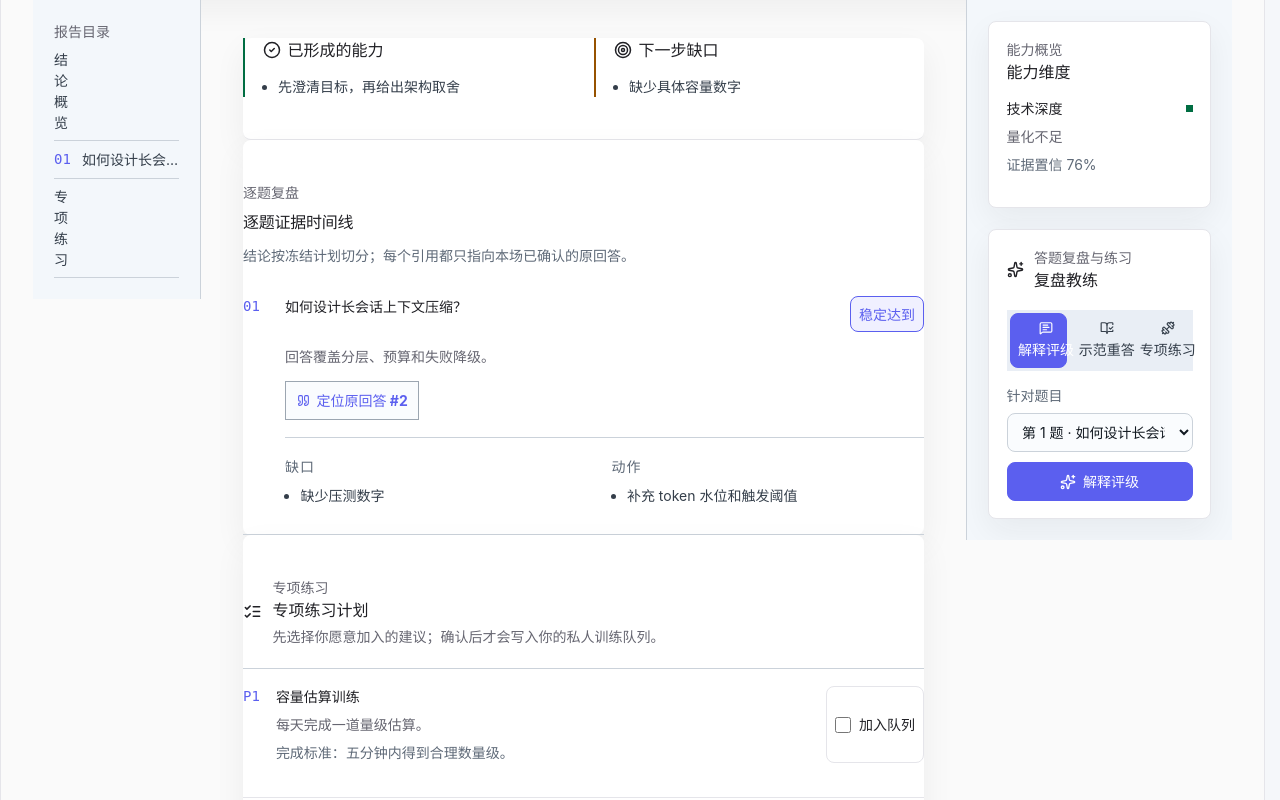
it: InterviewReportPage › opens the exact raw answer from an evidence citation
(page scrolled)
Click the button "定位原回答 #2". click: (352, 400)
box: [285,381,419,420]
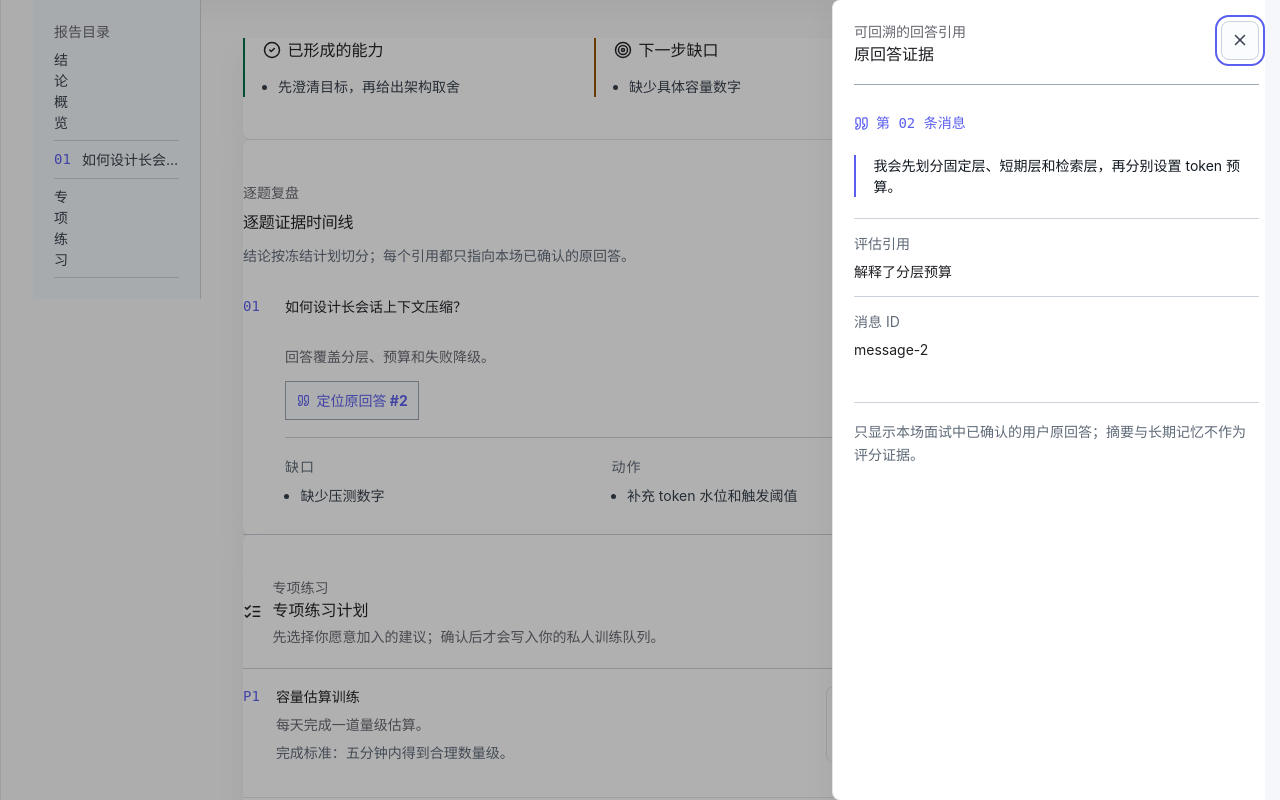
Expected: the heading "原回答证据" is shown, [854,44,934,64]
Expected: the text "我会先划分固定层、短期层和检索层，再分别设置 token 预算。" is shown, [854,154,1259,196]
Expected: the text "解释了分层预算" is shown, [854,262,952,280]
